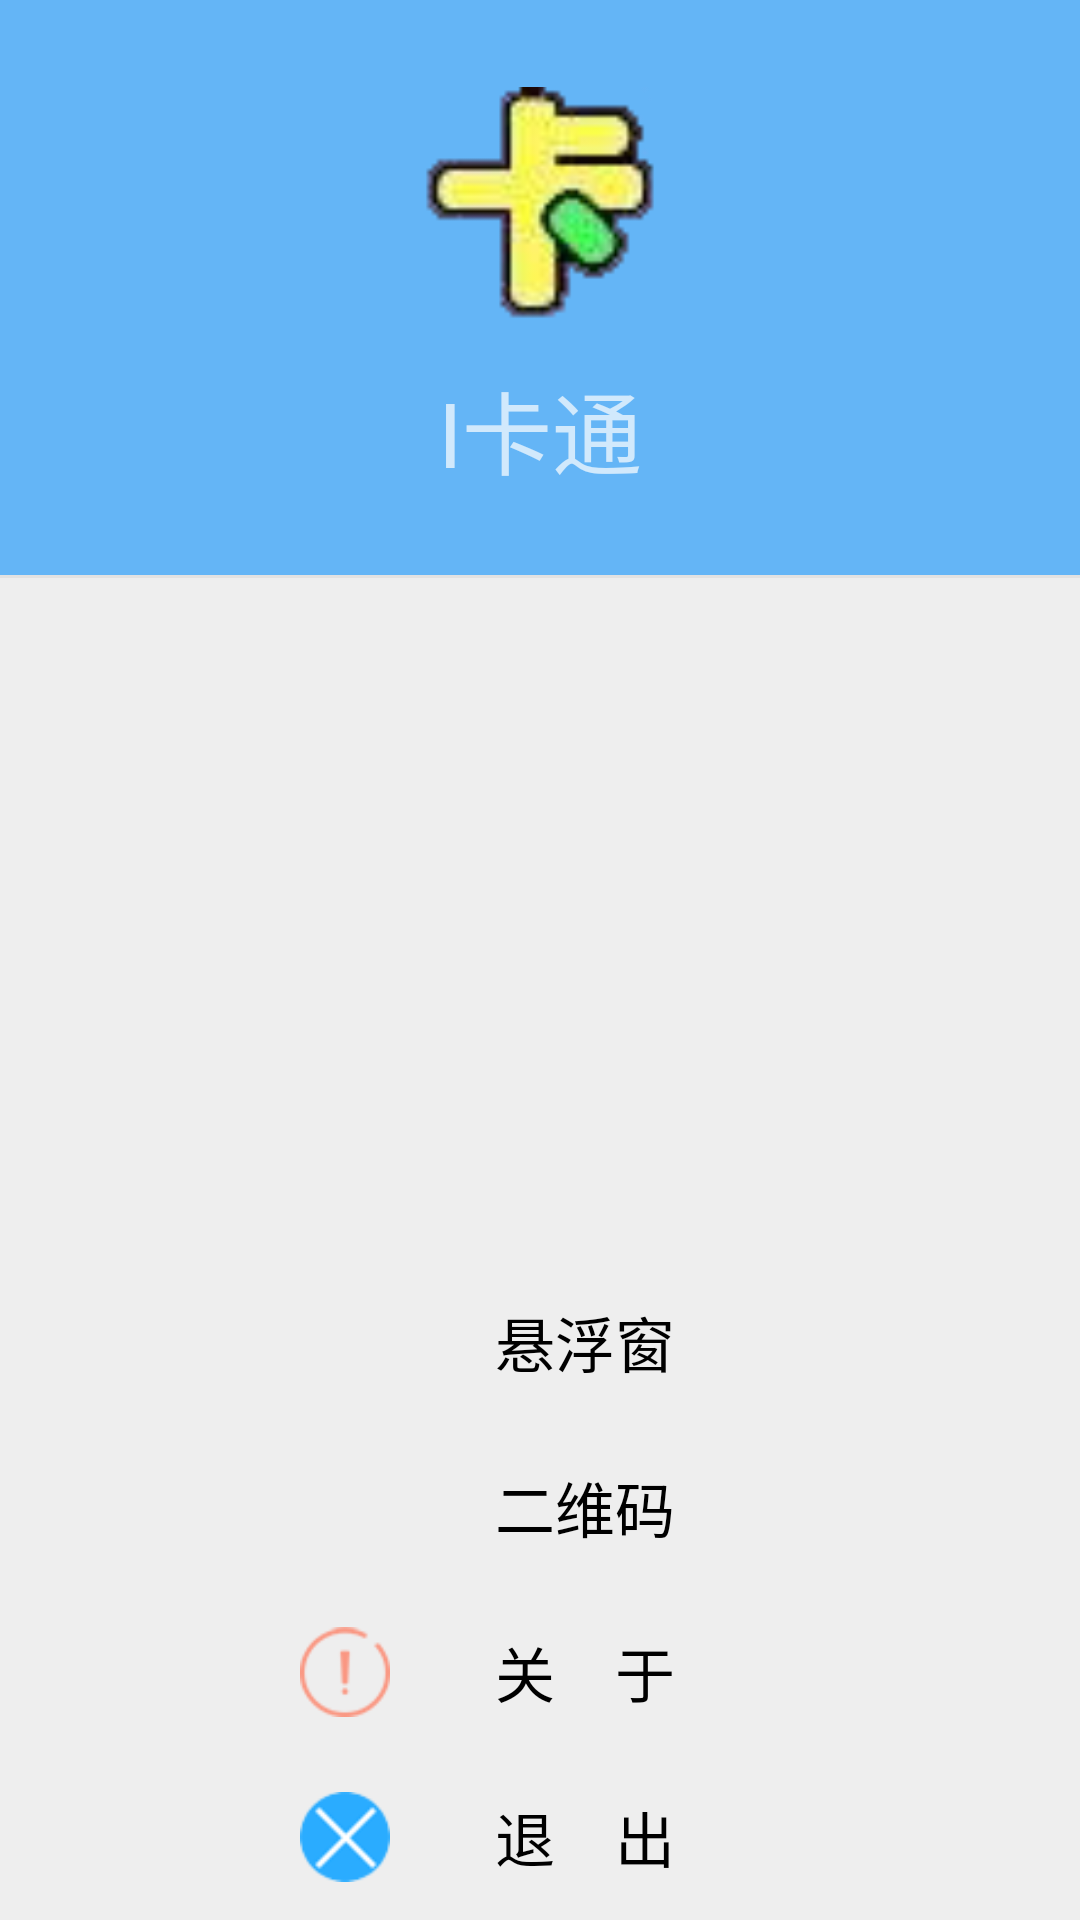

Screen size 1080px×1920px. Icon name, then its center in pixels as [x,y]:
icard: [540,202]
